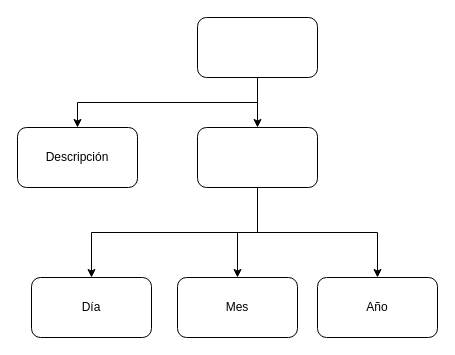
Some shapes in this 455 by 355 pixel diagram are drawn without their labels. The shapes that lost their labels are listed below. From the top down, each one's centre as x and y in pixels, then its label:
the point at 257,47: Hechos Históricos
the point at 257,157: Fecha
